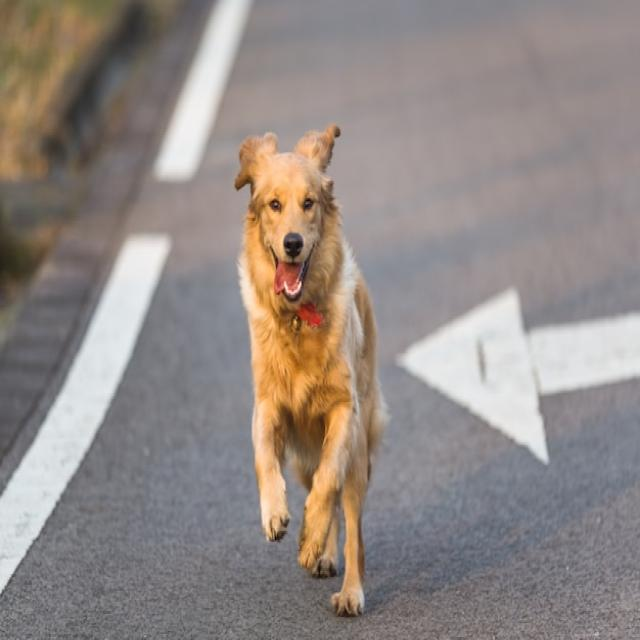Dog: (231, 123, 396, 614)
